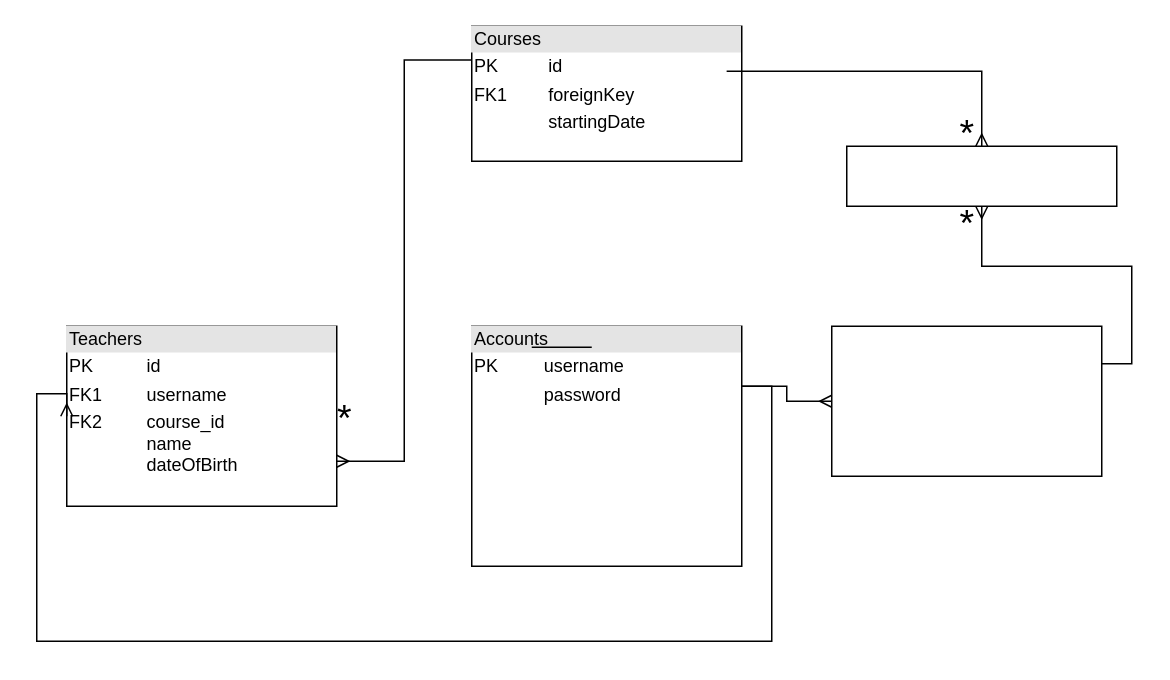
Some shapes in this 1170 by 680 pixel diagram are drawn without their labels. The shapes that lost their labels are listed below. From the top down, each one's centre as x and y in pixels, then its label:
(981,175): Courses_Students PK course_id, student_id
(966,400): Students PK id FK1 username name dateOfBirth studyYear
